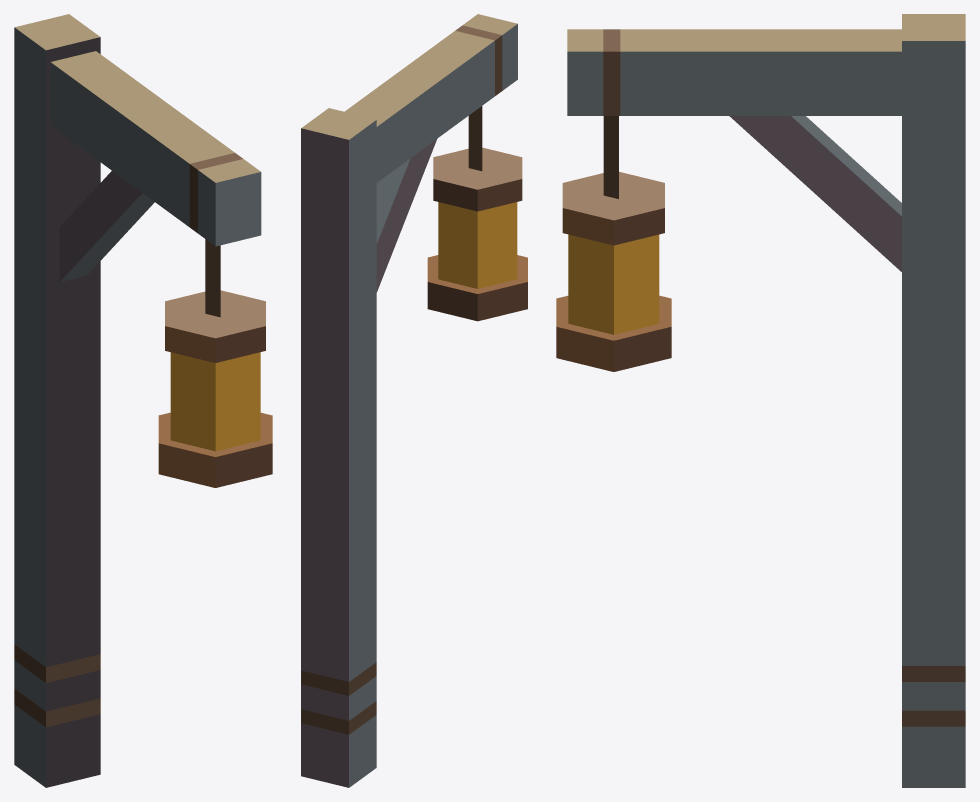
File: TB_D_Prop_Light_A.FBX
3 renders of one model, left to right at view 1: azimuth 30°, elevation 25°; view 2: azimuth 150°, elevation 25°; view 3: azimuth 270°, elevation 25°, orthographic. The views are drawn at different scales.
Parts seen in each view (by area): view 1: TB_D_Prop_Light_A; view 2: TB_D_Prop_Light_A; view 3: TB_D_Prop_Light_A.
Part boxes in pixels (x1,y1,x2,y2): TB_D_Prop_Light_A: (14,14,272,787); TB_D_Prop_Light_A: (301,14,527,787); TB_D_Prop_Light_A: (556,14,965,787).
Size of the model in its own units: 0.5455 by 3.37 by 1.68.
